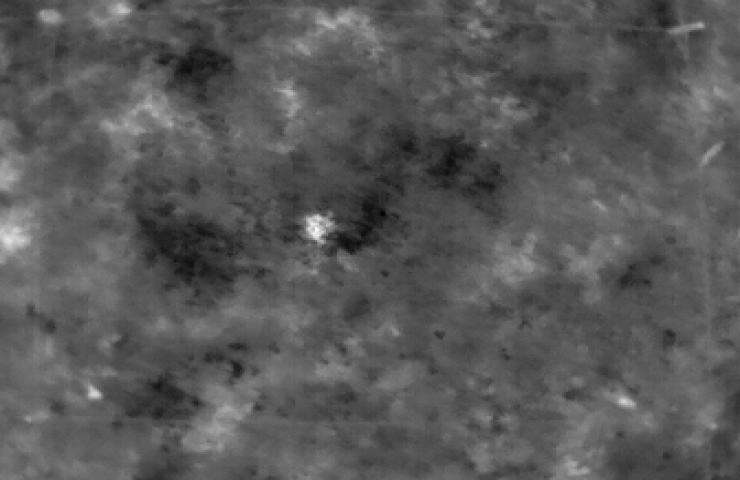landmines: (300, 211, 343, 246)
